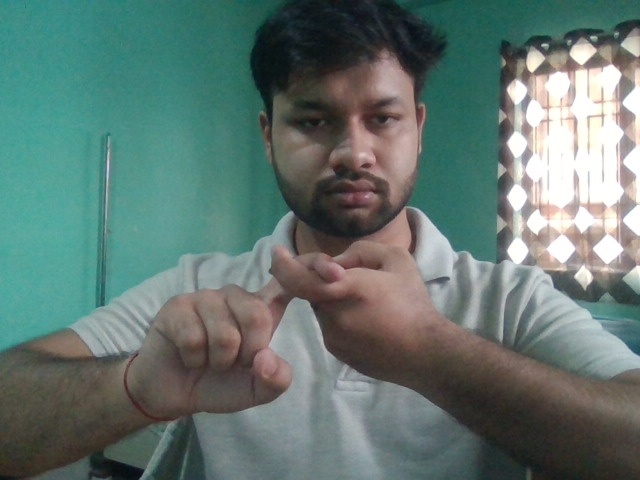Friend: (135, 237, 442, 420)
